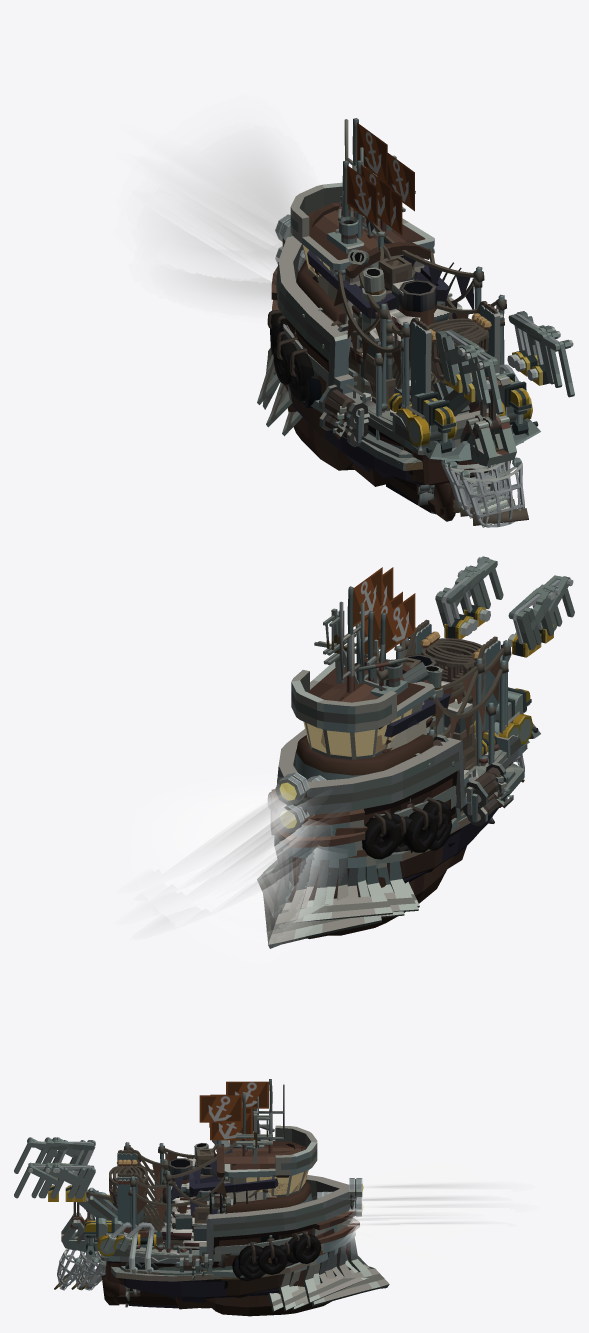
File: boat.glb
3 views of the same model, one above another, from view 1: azimuth 30°, elevation 25°; view 2: azimuth 150°, elevation 25°; view 3: azimuth 270°, elevation 25° (orthographic). The views are drawn at different scales.
Visible parts, largest first — view 1: Beam1 (×5), Boat5, SalvageFrame (1) (×5), Boat4, Flag (×4), Boat3, NetMesh (×2), Beam2 (×2), FishingRod3 (×2), TrawlFrame (×2), LongBunting (×2), DredgeBucketMesh (+12 smaller); view 2: Boat5, Beam1 (×2), IcebreakerModelPart1 (×3), SalvageFrame (1) (×5), Boat4, Boat3, TyreModel (×2), Beam2 (×2), IcebreakerModelPart2, Flag (×2), FishingRod3 (×2), Boat5_Damage2 (+10 smaller); view 3: Beam2 (×5), Boat5, SalvageFrame (1) (×5), IcebreakerModelPart1 (×3), Boat4, Boat3, Flag (×3), TrawlFrame (×4), TyreModel (×3), LongBunting (×3), IronhavenTrawl_Body (×2), BackFace (×2) (+14 smaller).
Part boxes in pixels (x1,y1,x2,y2): Beam1 (×5): (169,135,294,303); Boat5: (277,119,516,485); SalvageFrame (1) (×5): (435,311,574,414); Boat4: (283,147,523,513); Flag (×4): (347,122,414,225); Boat3: (292,177,449,512); NetMesh (×2): (448,461,524,527); Beam2 (×2): (168,153,282,246); FishingRod3 (×2): (319,384,369,447); TrawlFrame (×2): (392,301,503,402); LongBunting (×2): (334,218,473,373); DredgeBucketMesh: (469,389,516,466); Boat5: (277,601,519,938); Beam1 (×2): (168,786,308,887); IcebreakerModelPart1 (×3): (257,835,418,948); SalvageFrame (1) (×5): (435,556,574,657); Boat4: (319,602,524,868); Boat3: (318,610,515,883); TyreModel (×2): (362,805,438,859); Beam2 (×2): (190,791,308,857); IcebreakerModelPart2: (271,789,365,847); Flag (×2): (353,567,415,652); FishingRod3 (×2): (463,762,513,826); Boat5_Damage2: (279,669,461,825); Beam2 (×5): (345,1153,485,1251); Boat5: (105,1084,356,1316); SalvageFrame (1) (×5): (14,1137,95,1201); IcebreakerModelPart1 (×3): (279,1231,389,1311); Boat4: (111,1138,301,1309); Boat3: (120,1111,279,1308); Flag (×3): (199,1081,268,1140); TrawlFrame (×4): (117,1150,171,1249); TyreModel (×3): (238,1231,321,1274); LongBunting (×3): (135,1140,260,1221); IronhavenTrawl_Body (×2): (97,1222,157,1273); BackFace (×2): (365,1184,485,1237).
Size of what is drawn, in the model's own units: 2.6 by 3.29 by 7.45.
Materials: 12 (12 with a texture image).
